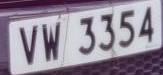3: (75, 12, 99, 59), (97, 10, 120, 56)
4: (137, 2, 157, 51)
5: (116, 5, 139, 55)
V: (16, 23, 41, 68)
W: (41, 19, 65, 66)
